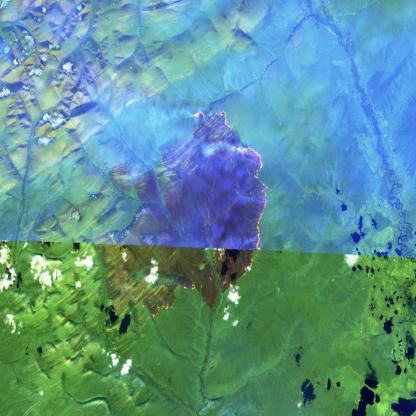fire: (185, 102, 276, 296)
